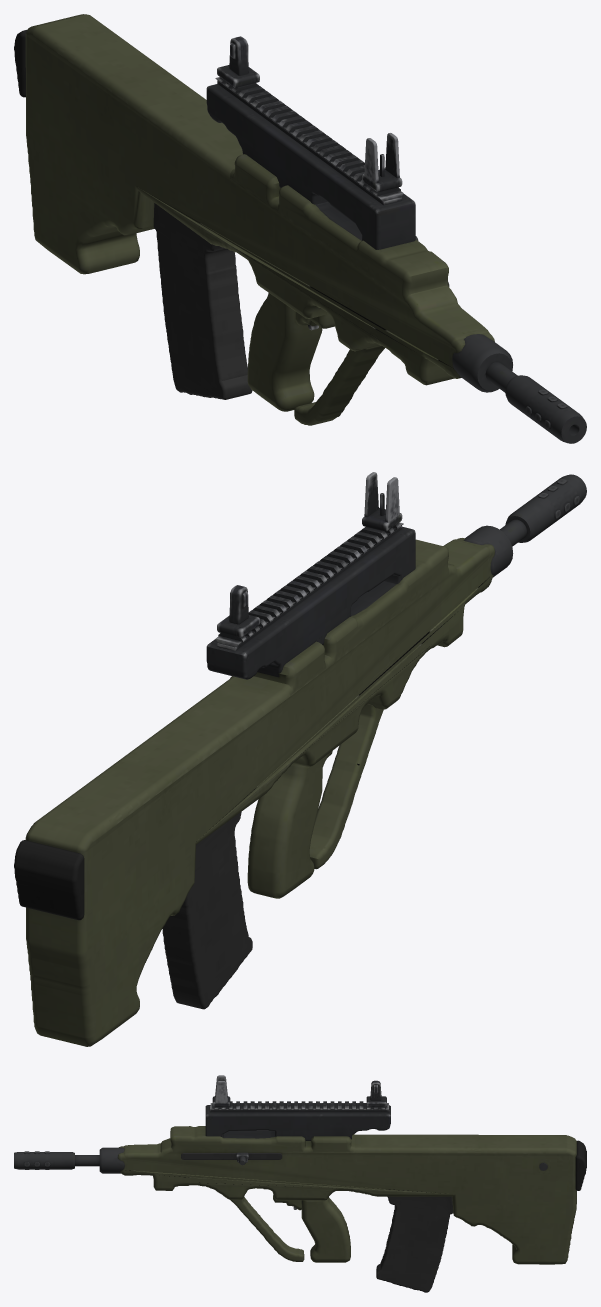
The model's file is ar_aug.glb.
3 renders of one model, top to bottom at view 1: azimuth 30°, elevation 25°; view 2: azimuth 150°, elevation 25°; view 3: azimuth 270°, elevation 25°, orthographic. The views are drawn at different scales.
Visible parts, largest first — view 1: body, mag_mesh; view 2: body, mag_mesh; view 3: body, mag_mesh.
Boxes of the visible parts, x1,y1,x2,y2 form: body: [14, 14, 586, 443]; mag_mesh: [153, 203, 252, 399]; body: [14, 472, 586, 1046]; mag_mesh: [162, 812, 252, 1009]; body: [14, 1075, 586, 1264]; mag_mesh: [376, 1196, 453, 1292].
Bounding box in the file's own units: 0.073 × 0.3204 × 0.7899.
1 material, 1 textured.
